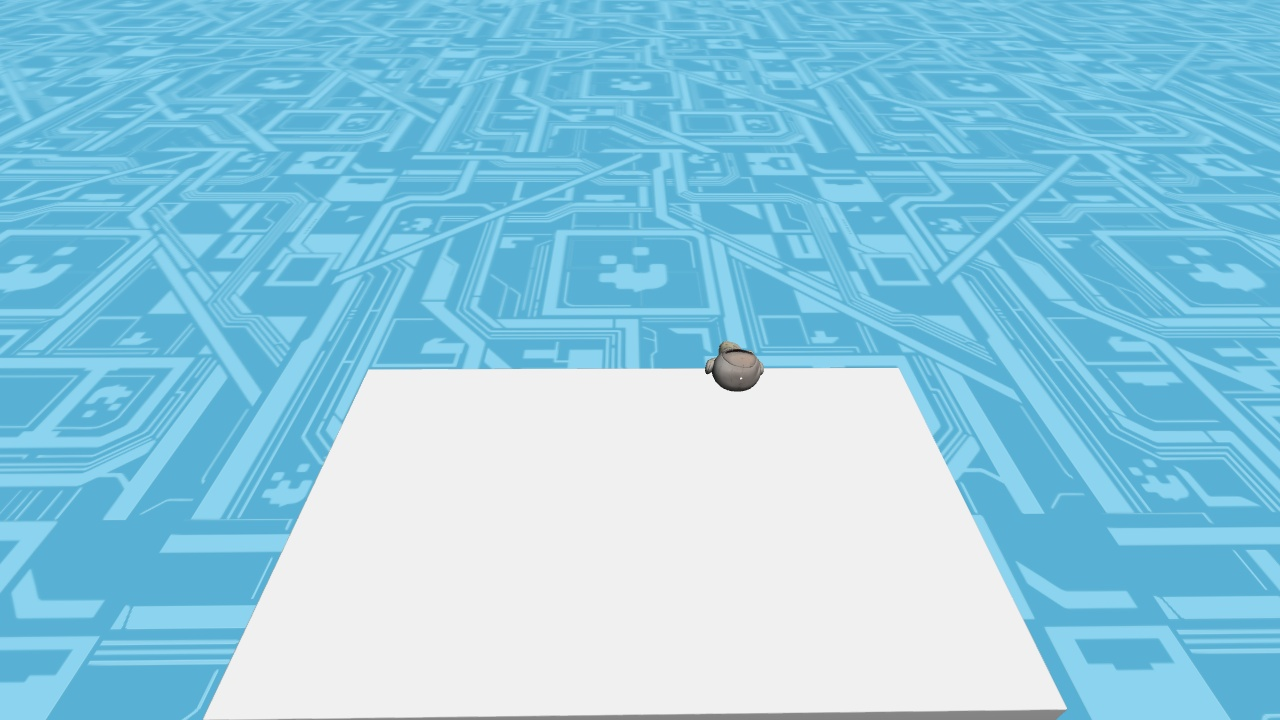toy: (705, 341, 763, 391)
